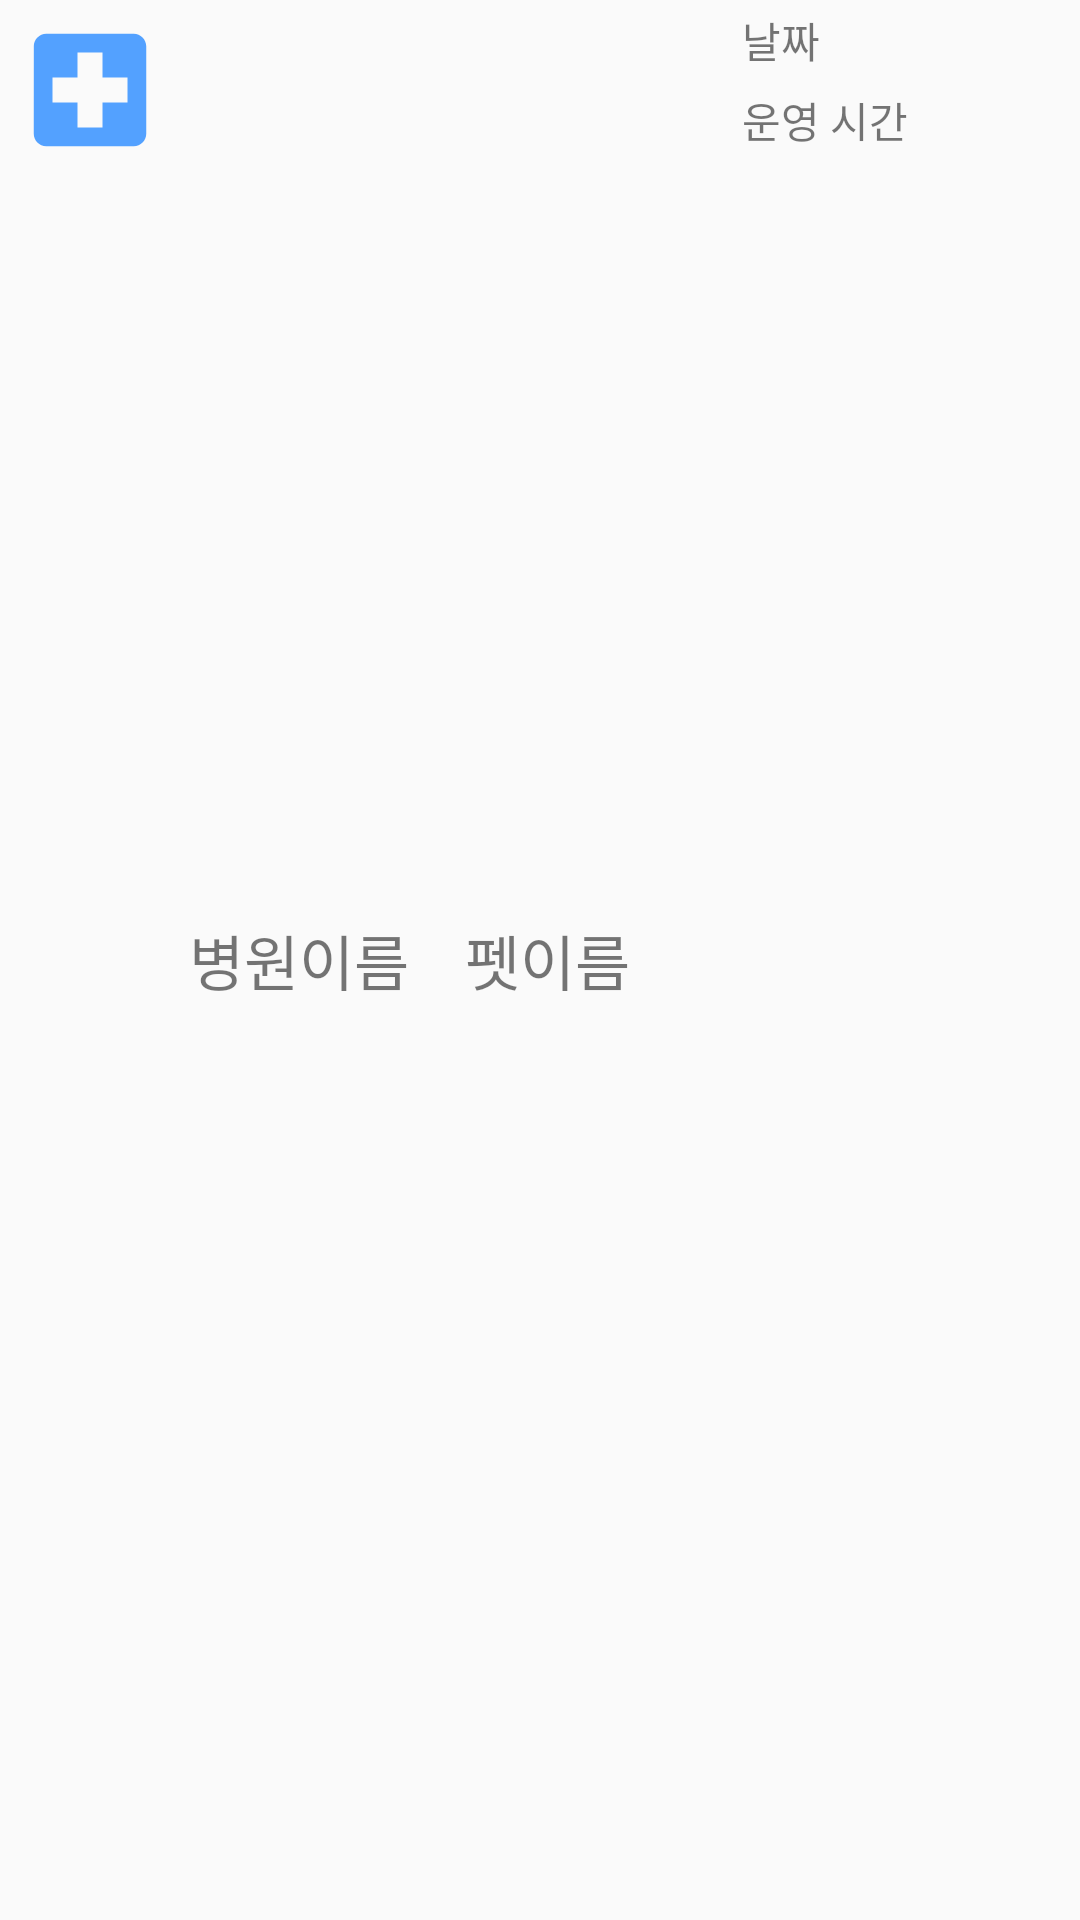

Named icons in this screenshot (1080×1920) and their centers, (x,y):
local hospital: (90,90)
